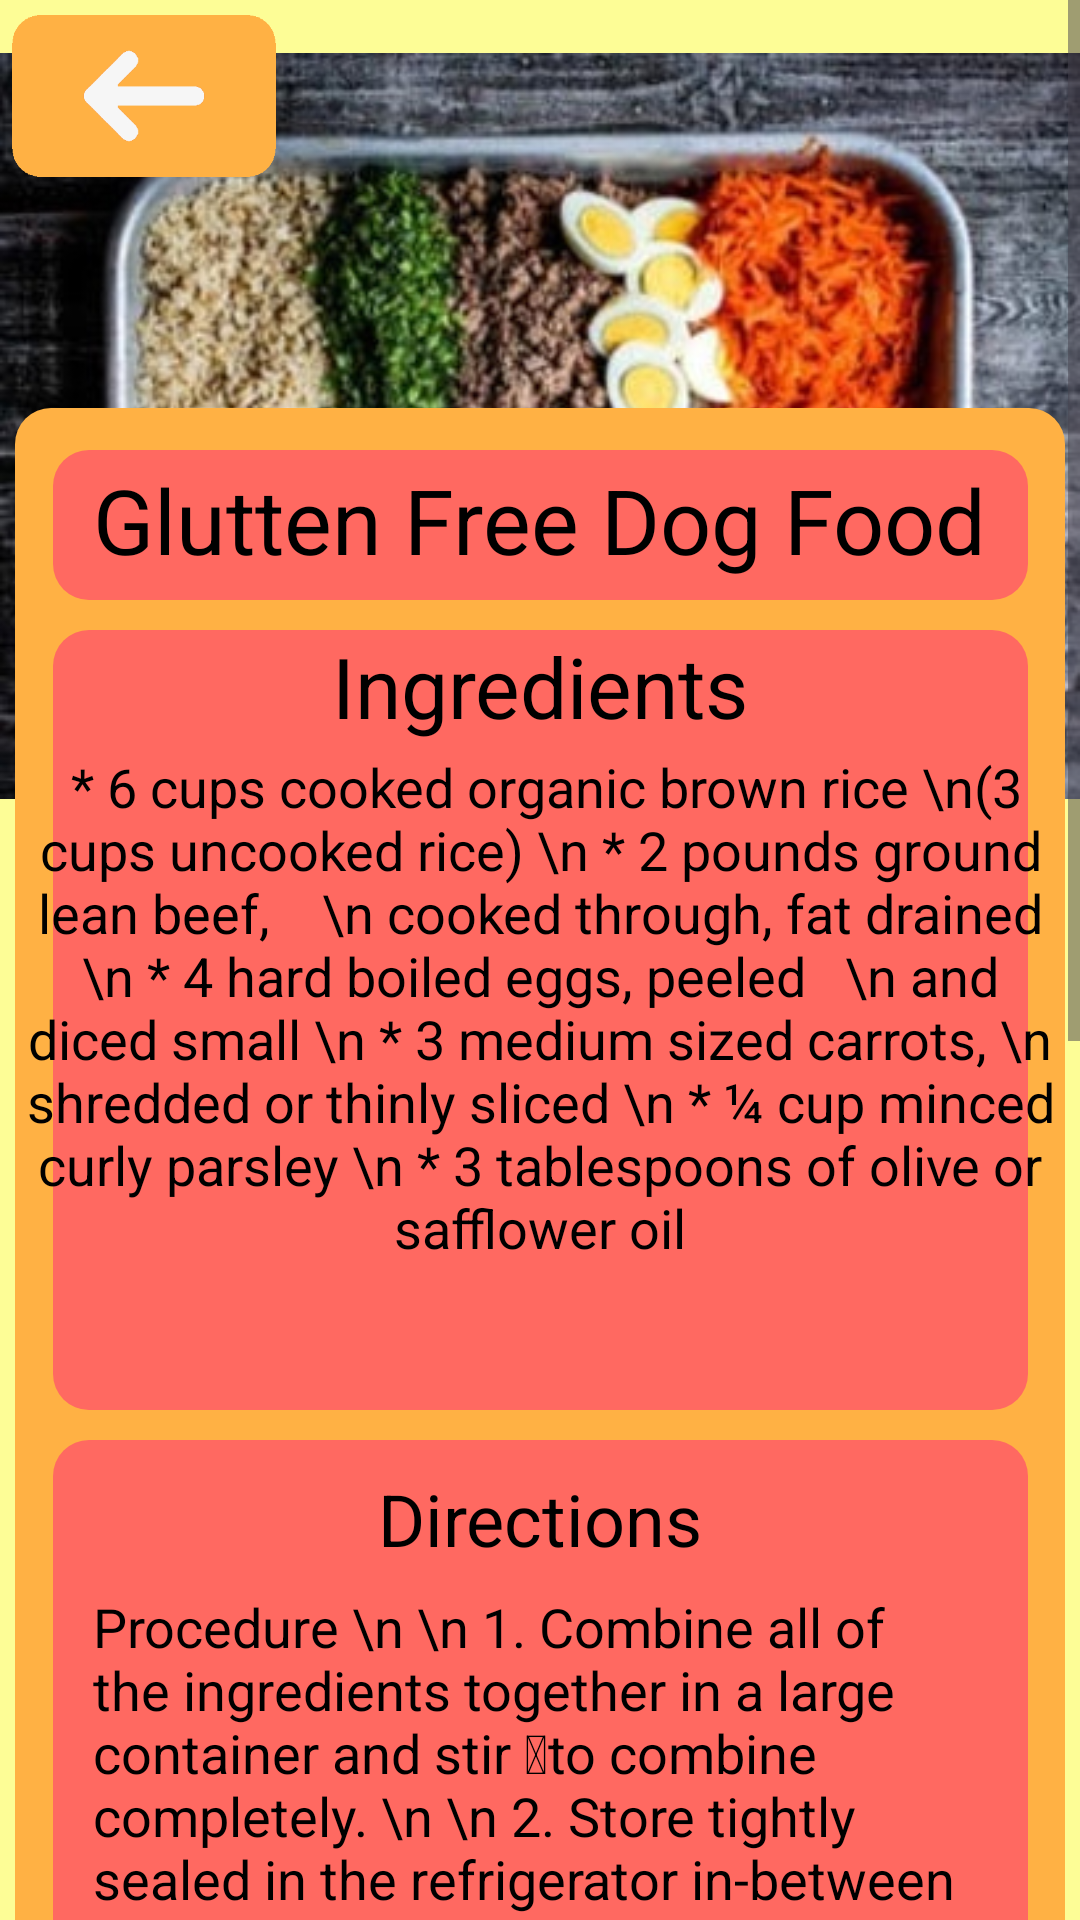

Where to tap for icons on this 1080*1920 app screen, as point (x, y):
backred: point (144, 96)
